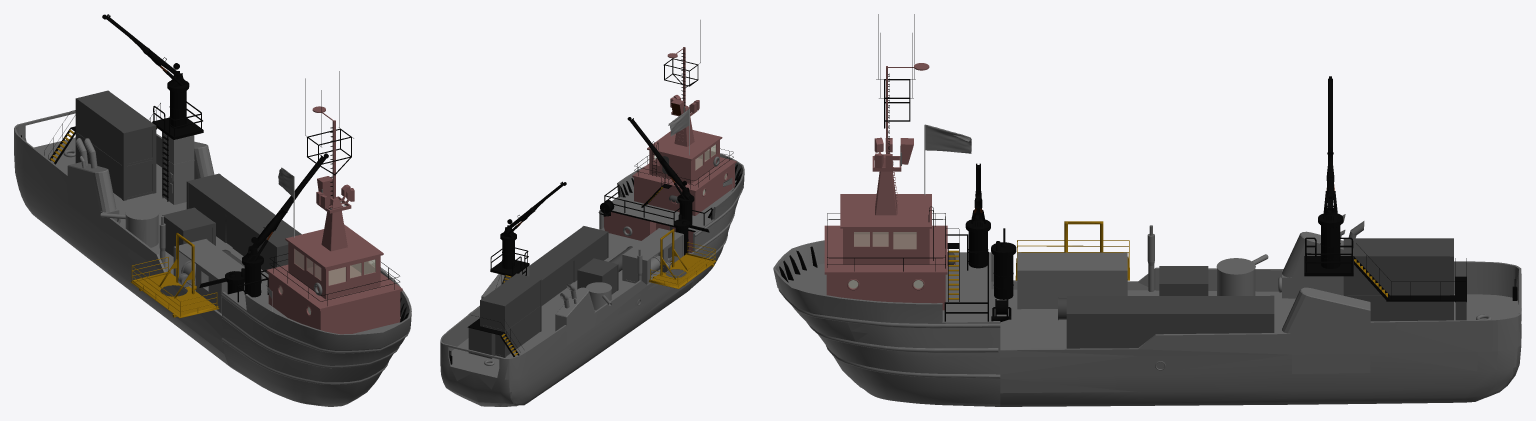
Rendered from Shipboatsmall.obj.
3 renders of one model, left to right at view 1: azimuth 30°, elevation 25°; view 2: azimuth 150°, elevation 25°; view 3: azimuth 270°, elevation 25°, orthographic. The views are drawn at different scales.
Parts seen in each view (by area): view 1: (null)_(null)_boat, (null)_(null)_boat1, (null)_(null)_Croco_,Black_Ski, (null)_(null)_,Black, (null)_(null)_boat2, (null)_(null)_orange, (null)_(null)_orange+MASK, (null)_(null)_window, (null)_(null)_,Black_1; view 2: (null)_(null)_boat, (null)_(null)_boat1, (null)_(null)_Croco_,Black_Ski, (null)_(null)_,Black, (null)_(null)_boat2, (null)_(null)_orange, (null)_(null)_orange+MASK, (null)_(null)_,Black_1, (null)_(null)_Material__54; view 3: (null)_(null)_boat, (null)_(null)_boat1, (null)_(null)_Croco_,Black_Ski, (null)_(null)_,Black, (null)_(null)_boat2, (null)_(null)_orange, (null)_(null)_window, (null)_(null)_Material__54.
Part boxes in pixels (x1=…): (null)_(null)_boat: x1=14, y1=110, x2=411, y2=406; (null)_(null)_boat1: x1=75, y1=90, x2=301, y2=283; (null)_(null)_Croco_,Black_Ski: x1=266, y1=106, x2=402, y2=334; (null)_(null)_,Black: x1=21, y1=14, x2=408, y2=322; (null)_(null)_boat2: x1=34, y1=137, x2=400, y2=333; (null)_(null)_orange: x1=50, y1=127, x2=219, y2=318; (null)_(null)_orange+MASK: x1=135, y1=273, x2=215, y2=314; (null)_(null)_window: x1=279, y1=249, x2=375, y2=314; (null)_(null)_,Black_1: x1=305, y1=71, x2=353, y2=175; (null)_(null)_boat: x1=440, y1=106, x2=744, y2=406; (null)_(null)_boat1: x1=468, y1=156, x2=679, y2=358; (null)_(null)_Croco_,Black_Ski: x1=604, y1=47, x2=736, y2=252; (null)_(null)_,Black: x1=449, y1=53, x2=742, y2=364; (null)_(null)_boat2: x1=450, y1=178, x2=736, y2=377; (null)_(null)_orange: x1=502, y1=187, x2=716, y2=355; (null)_(null)_orange+MASK: x1=651, y1=254, x2=712, y2=286; (null)_(null)_,Black_1: x1=663, y1=20, x2=700, y2=87; (null)_(null)_Material__54: x1=668, y1=108, x2=689, y2=136; (null)_(null)_boat: x1=773, y1=146, x2=1521, y2=406; (null)_(null)_boat1: x1=947, y1=238, x2=1466, y2=348; (null)_(null)_Croco_,Black_Ski: x1=824, y1=63, x2=955, y2=310; (null)_(null)_,Black: x1=779, y1=73, x2=1517, y2=322; (null)_(null)_boat2: x1=787, y1=253, x2=1521, y2=348; (null)_(null)_orange: x1=948, y1=221, x2=1387, y2=299; (null)_(null)_window: x1=848, y1=232, x2=923, y2=288; (null)_(null)_Material__54: x1=925, y1=124, x2=971, y2=153.
Size of the model in its own units: 7.92 by 14.75 by 27.3.
